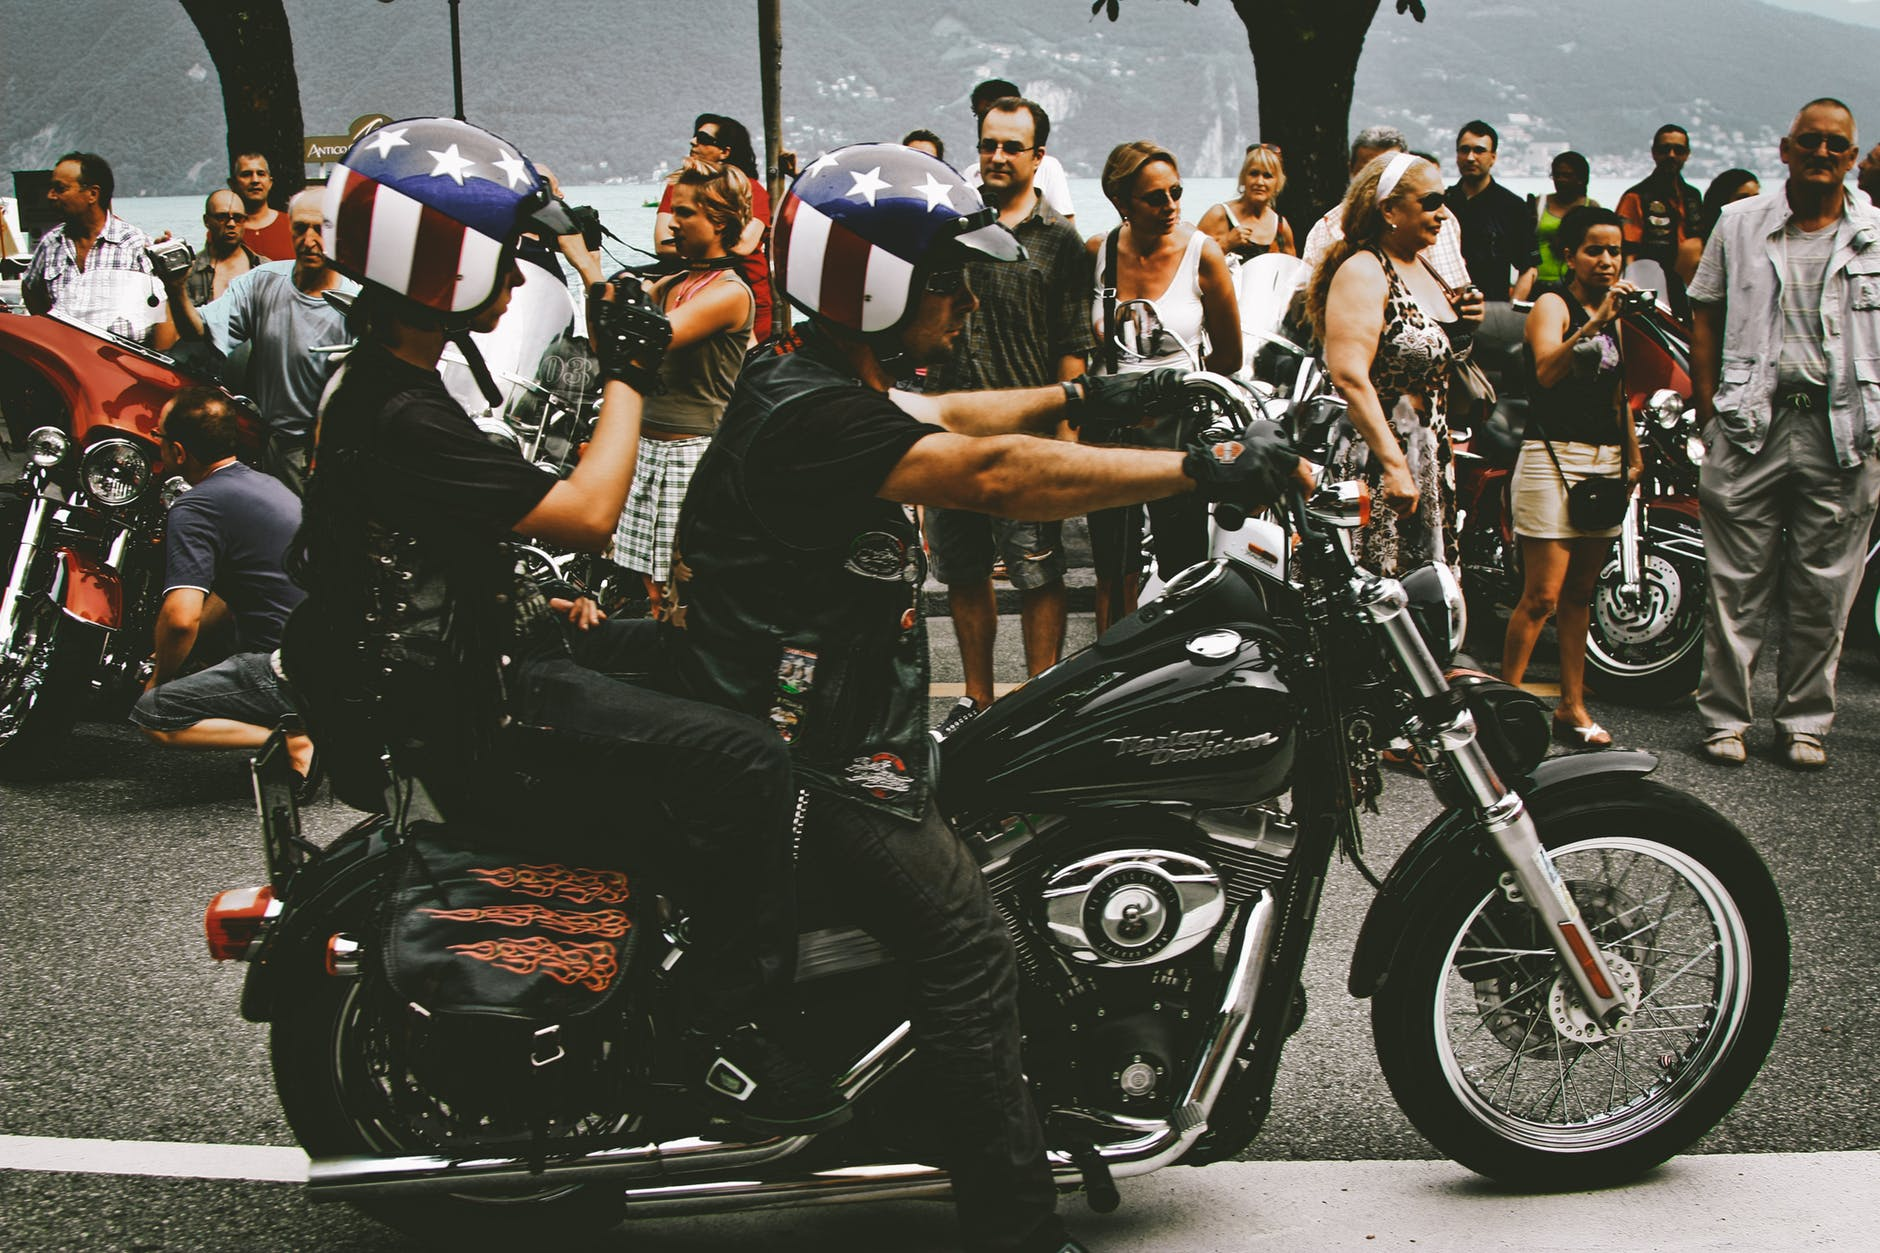helmet: (769, 134, 1025, 354), (312, 113, 565, 298)
